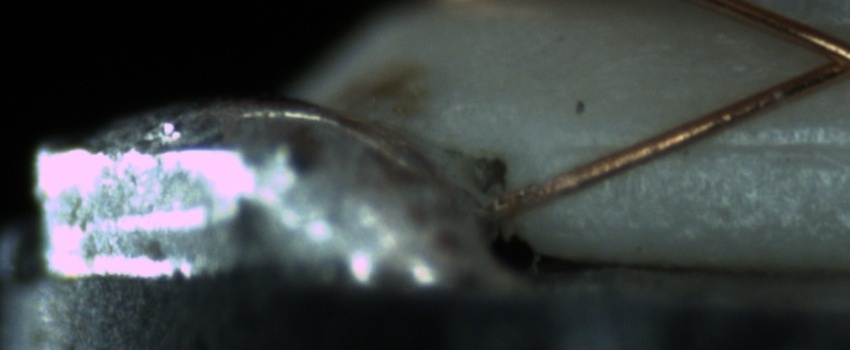CL: (794, 27, 850, 87)
DL: (554, 115, 850, 177)
